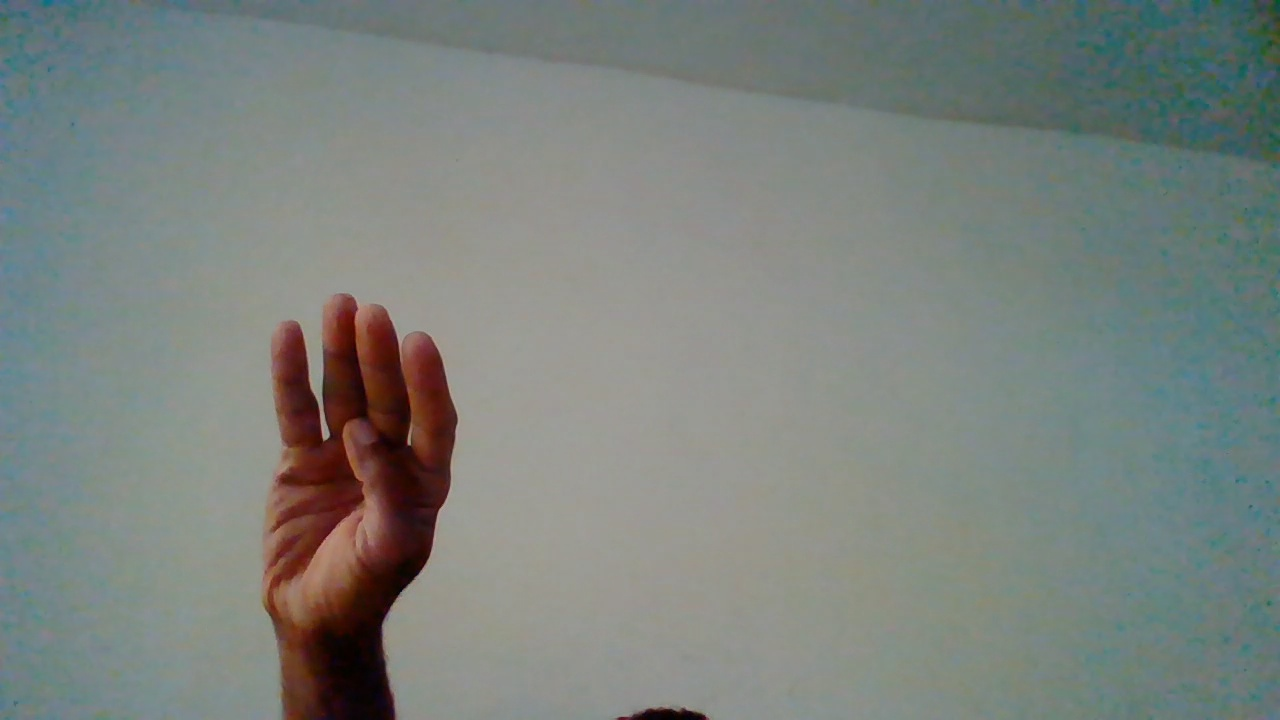me: (264, 294, 467, 720)
